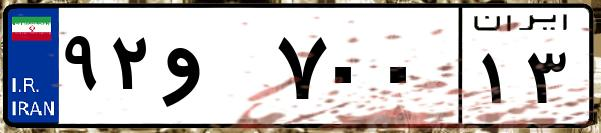0: (385, 28, 445, 110), (330, 28, 385, 110)
1: (475, 38, 525, 113)
2: (110, 28, 158, 98)
3: (525, 38, 570, 115)
7: (270, 28, 330, 110)
9: (57, 26, 110, 100)
و: (158, 20, 270, 120)
